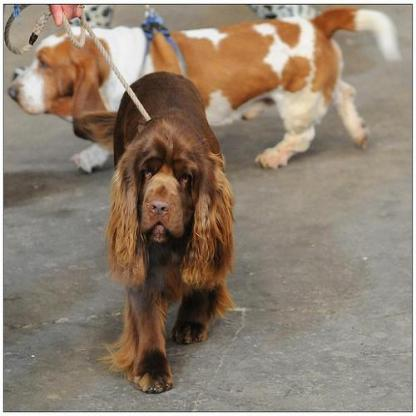Sussex_spaniel: (102, 71, 235, 392)
